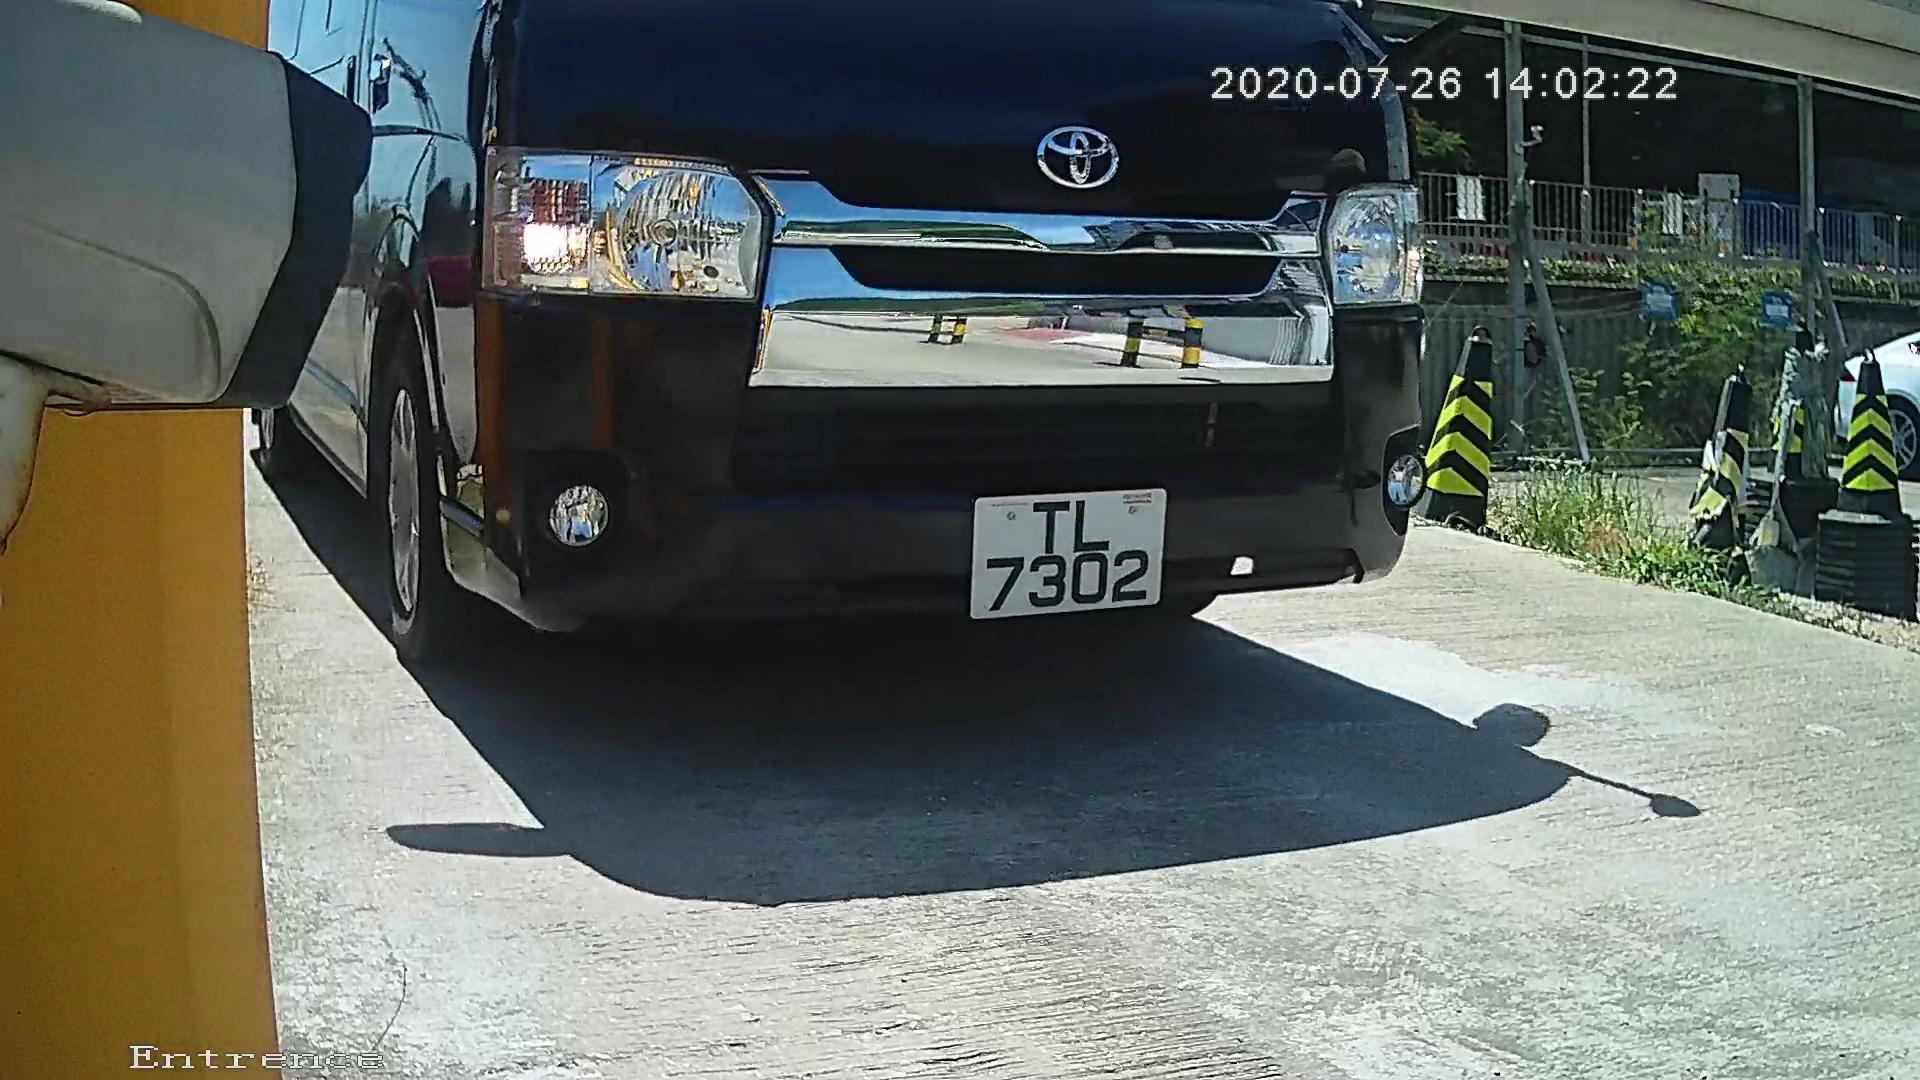privatecar: (276, 3, 1458, 712)
